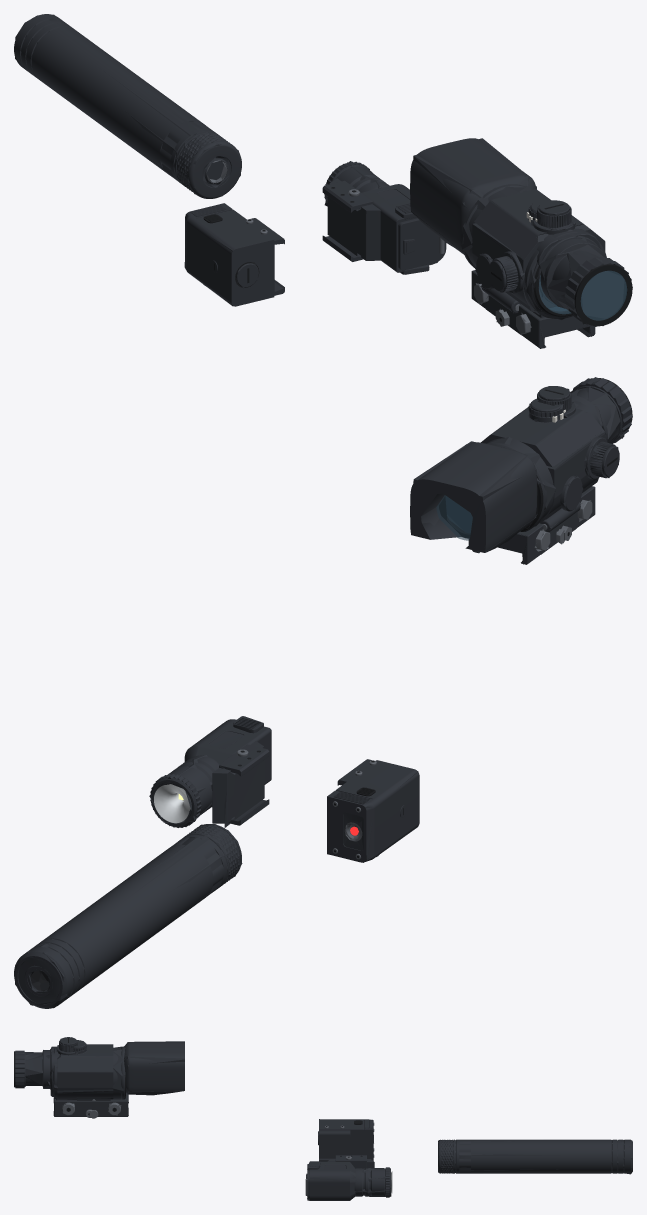
File: smg.glb
3 views of the same model, one above another, from view 1: azimuth 30°, elevation 25°; view 2: azimuth 150°, elevation 25°; view 3: azimuth 270°, elevation 25° (orthographic). The views are drawn at different scales.
Visible parts, largest first — view 1: muzzle_silencer, optic_scopeVar, optic_scope2x, light_weaponTorch, laser_redLaser, optic_scopeVar_Figure, laser_redLaser_Figure, optic_scope2x_Figure, muzzle_silencer_Figure, light_weaponTorch_Figure; view 2: muzzle_silencer, optic_scopeVar, optic_scope2x, laser_redLaser, light_weaponTorch, optic_scopeVar_Figure, light_weaponTorch_Figure, muzzle_silencer_Figure, optic_scope2x_Figure, laser_redLaser_Figure; view 3: muzzle_silencer, optic_scopeVar, optic_scope2x, light_weaponTorch, laser_redLaser, optic_scopeVar_Figure, muzzle_silencer_Figure, optic_scope2x_Figure, laser_redLaser_Figure, light_weaponTorch_Figure.
Part boxes in pixels (x1,y1,x2,y2): muzzle_silencer: [14, 14, 241, 198]; optic_scopeVar: [410, 138, 632, 348]; optic_scope2x: [461, 184, 606, 332]; light_weaponTorch: [322, 161, 446, 274]; laser_redLaser: [185, 203, 284, 306]; optic_scopeVar_Figure: [411, 138, 627, 348]; laser_redLaser_Figure: [184, 206, 284, 306]; optic_scope2x_Figure: [462, 186, 601, 335]; muzzle_silencer_Figure: [15, 14, 240, 198]; light_weaponTorch_Figure: [324, 161, 437, 271]; muzzle_silencer: [14, 824, 241, 1008]; optic_scopeVar: [410, 377, 632, 564]; optic_scope2x: [481, 386, 619, 552]; laser_redLaser: [327, 759, 419, 862]; light_weaponTorch: [150, 716, 271, 827]; optic_scopeVar_Figure: [411, 378, 631, 564]; light_weaponTorch_Figure: [149, 731, 264, 827]; muzzle_silencer_Figure: [15, 824, 242, 1008]; optic_scope2x_Figure: [487, 386, 618, 554]; laser_redLaser_Figure: [332, 759, 418, 862]; muzzle_silencer: [438, 1139, 632, 1173]; optic_scopeVar: [14, 1040, 184, 1116]; optic_scope2x: [50, 1037, 125, 1118]; light_weaponTorch: [305, 1155, 390, 1200]; laser_redLaser: [318, 1119, 374, 1161]; optic_scopeVar_Figure: [16, 1041, 184, 1115]; muzzle_silencer_Figure: [438, 1139, 632, 1174]; optic_scope2x_Figure: [50, 1038, 125, 1118]; laser_redLaser_Figure: [318, 1119, 373, 1159]; light_weaponTorch_Figure: [307, 1160, 392, 1200].
Bounding box in the file's own units: 0.1008 × 0.1164 × 0.476.
